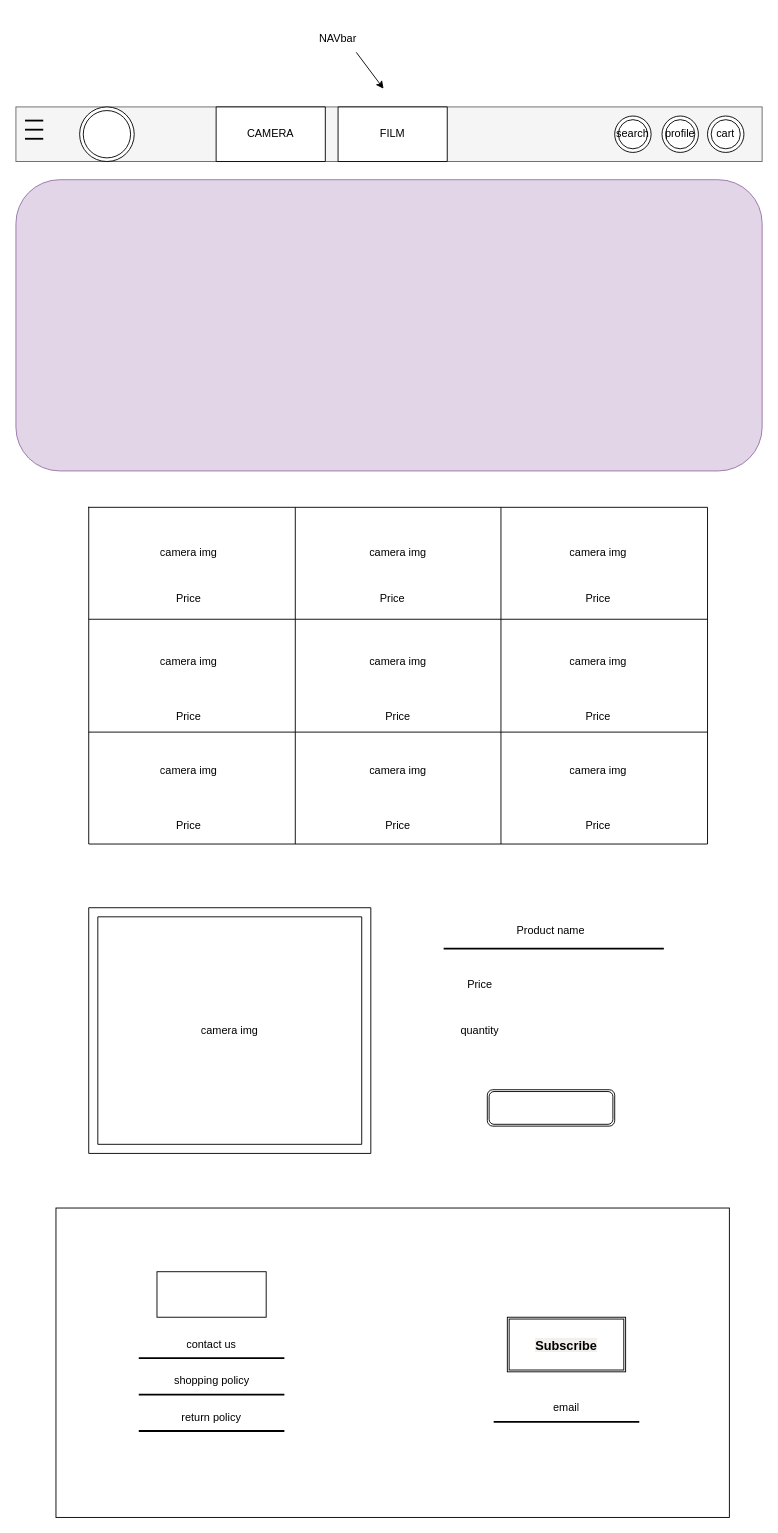
Some shapes in this 778 by 1533 pixel diagram are drawn without their labels. Here are the shapes that lost their labels. From the top down, the centre of each, then its label:
(x=106, y=134): logo
(x=550, y=1107): buy button
(x=211, y=1294): Quick link
